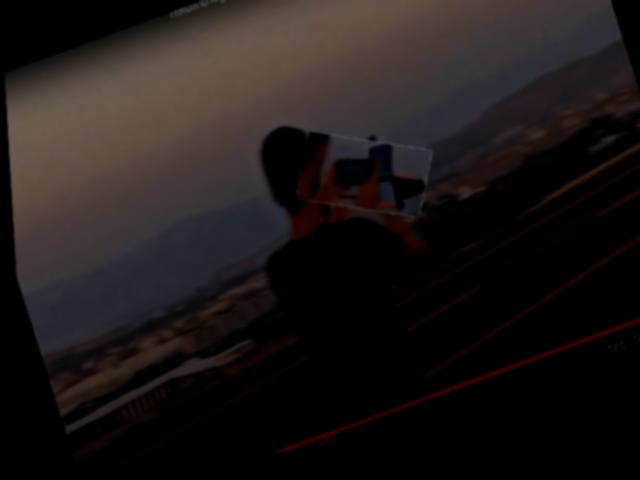insansiz-hava-araci: (282, 115, 439, 251)
